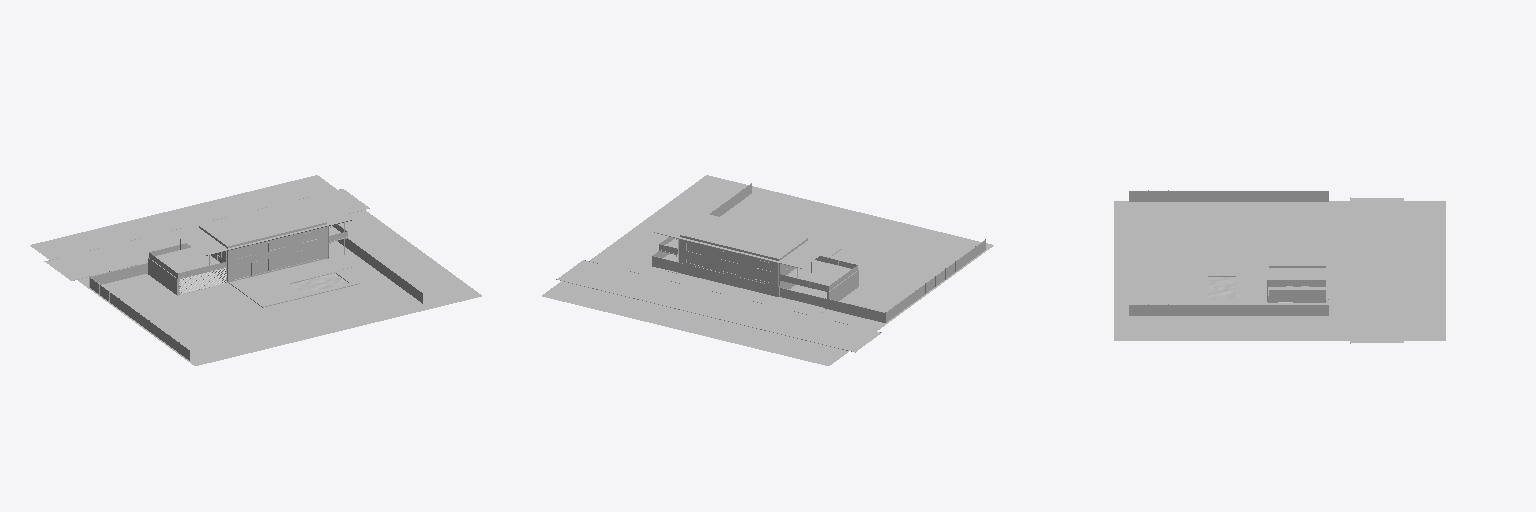
Rendered from house.obj.
The picture shows the model from 3 angles: view 1: azimuth 30°, elevation 25°; view 2: azimuth 150°, elevation 25°; view 3: azimuth 270°, elevation 25°; orthographic projection.
Parts seen in each view (by area): view 1: Ground_Plane.002, Roof_Cube.004, Street2_Plane.011, Patio_Cube.015, Fence03_Cube.037, Walls_Main_Cube, Balcony_Cube.008, Ground_floor_glasswall_Cube.007, Railing_Plane, water_Cube.041, Fence04.001_Cube.038, Shades_Cube.010; view 2: Ground_Plane.002, Street2_Plane.011, Roof_Cube.004, Walls_Main_Cube, Fence03_Cube.037, Balcony_Cube.008, Fence04_Cube.017, Railing_Plane, Driveway_Plane.005, Fence04.001_Cube.038; view 3: Ground_Plane.002, Street2_Plane.011, Roof_Cube.004, Fence03_Cube.037, Patio_Cube.015, water_Cube.041, Walls_Main_Cube.
Boxes of the visible parts, box(x1,y1,x2,y2) form: Ground_Plane.002: box(30, 175, 481, 365); Roof_Cube.004: box(173, 196, 353, 255); Street2_Plane.011: box(45, 189, 368, 280); Patio_Cube.015: box(229, 259, 359, 307); Fence03_Cube.037: box(89, 238, 422, 360); Walls_Main_Cube: box(211, 226, 328, 282); Balcony_Cube.008: box(148, 247, 226, 295); Ground_floor_glasswall_Cube.007: box(235, 246, 320, 280); Railing_Plane: box(149, 224, 347, 278); water_Cube.041: box(292, 273, 347, 292); Fence04.001_Cube.038: box(90, 263, 147, 284); Shades_Cube.010: box(179, 268, 226, 293); Ground_Plane.002: box(542, 175, 993, 365); Street2_Plane.011: box(558, 260, 880, 351); Roof_Cube.004: box(654, 209, 833, 268); Walls_Main_Cube: box(679, 239, 795, 289); Fence03_Cube.037: box(653, 183, 985, 322); Balcony_Cube.008: box(781, 260, 858, 300); Fence04_Cube.017: box(676, 261, 779, 296); Railing_Plane: box(659, 237, 857, 291); Driveway_Plane.005: box(768, 285, 826, 316); Fence04.001_Cube.038: box(825, 298, 884, 322); Ground_Plane.002: box(1114, 201, 1445, 340); Street2_Plane.011: box(1351, 198, 1403, 342); Roof_Cube.004: box(1265, 207, 1328, 279); Fence03_Cube.037: box(1129, 190, 1328, 315); Patio_Cube.015: box(1201, 254, 1266, 301); water_Cube.041: box(1208, 277, 1235, 297); Walls_Main_Cube: box(1268, 280, 1325, 302).
Bounding box in the file's own units: 35.36 × 4.94 × 33.94.